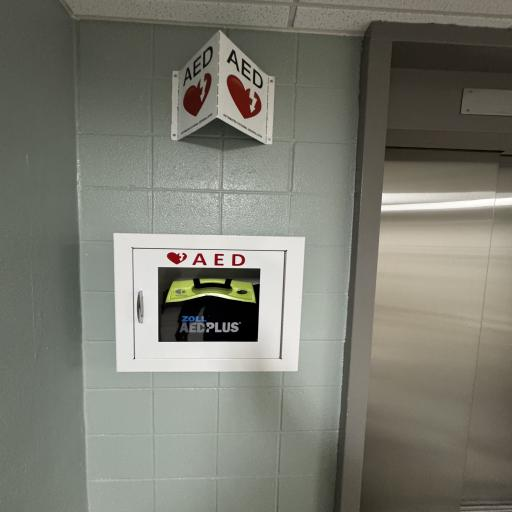defibrillator: (108, 227, 305, 380)
defibrillator sign: (171, 38, 285, 142)
